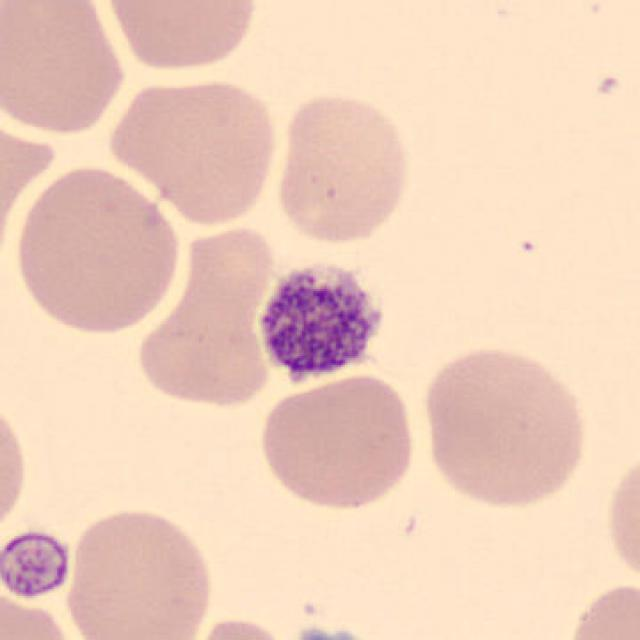Platelets: (250, 249, 394, 390), (0, 533, 76, 607)
RBC: (11, 160, 185, 338), (416, 340, 592, 513), (103, 70, 285, 228), (139, 229, 274, 413), (254, 370, 420, 515), (270, 86, 414, 248), (62, 502, 217, 640), (0, 0, 131, 139), (100, 0, 263, 76), (601, 441, 640, 594), (560, 576, 640, 640), (0, 391, 32, 545), (0, 585, 82, 640), (176, 612, 300, 640)
